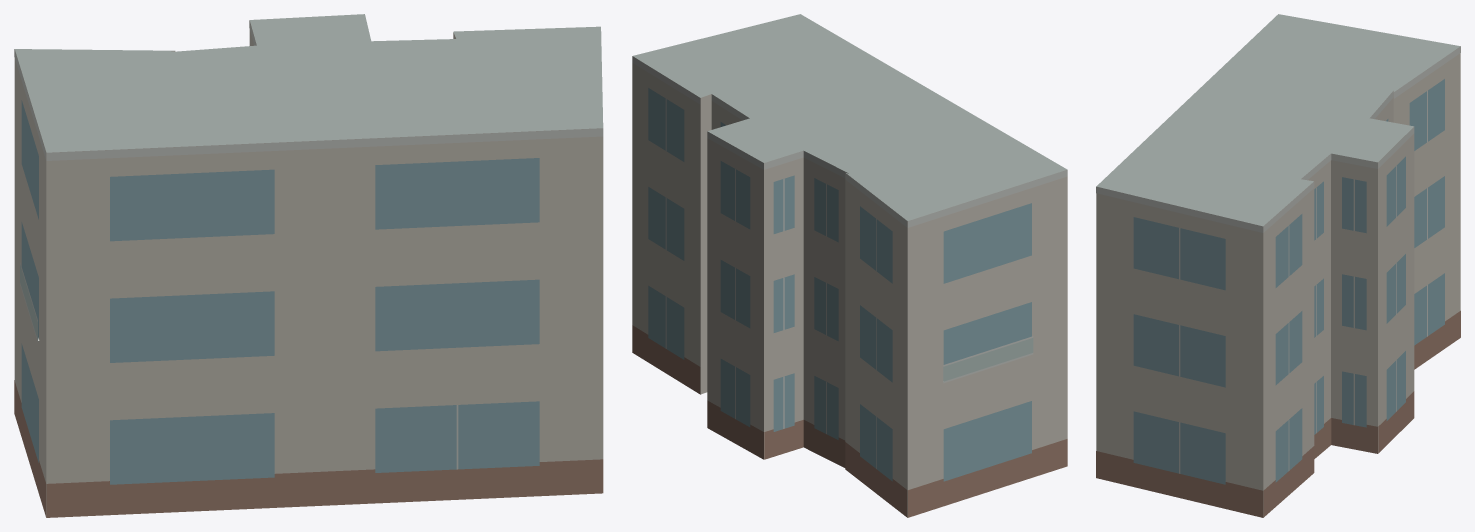
File: survey-upis-32472080.glb
3 renders of one model, left to right at view 1: azimuth 30°, elevation 25°; view 2: azimuth 150°, elevation 25°; view 3: azimuth 270°, elevation 25°, orthographic. The views are drawn at different scales.
Parts seen in each view (by area): view 1: survey-upis-32472080.tmp; view 2: survey-upis-32472080.tmp; view 3: survey-upis-32472080.tmp.
Boxes of the visible parts, x1,y1,x2,y2 form: survey-upis-32472080.tmp: (14, 14, 603, 517); survey-upis-32472080.tmp: (632, 14, 1067, 517); survey-upis-32472080.tmp: (1096, 14, 1460, 517).
Size of the model in its own units: 16.65 by 10.65 by 12.08.
